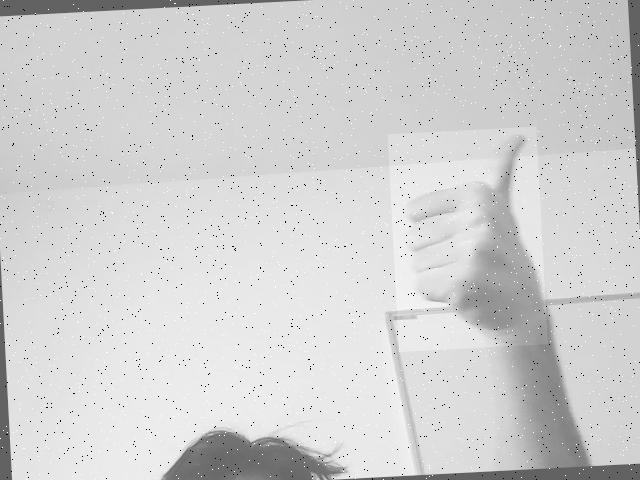good: (392, 129, 545, 347)
